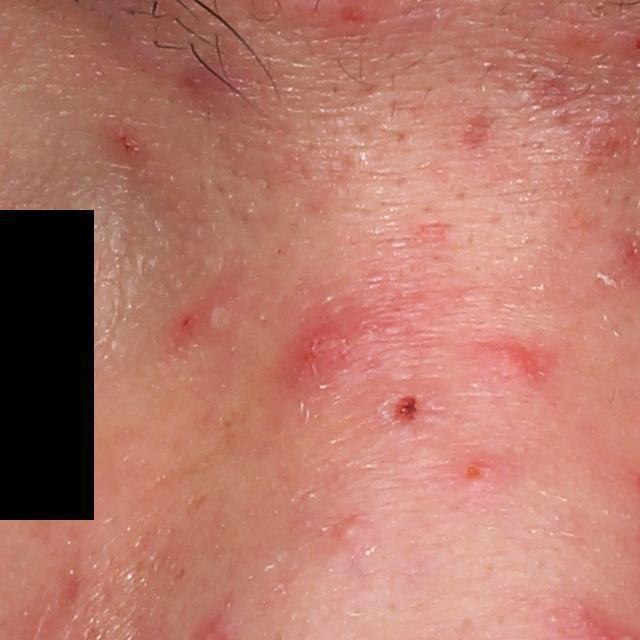comedo: (333, 515, 367, 550)
papule: (278, 319, 356, 388), (572, 116, 628, 168), (376, 388, 439, 431), (173, 297, 223, 345), (101, 120, 150, 165), (492, 340, 532, 379), (457, 456, 498, 488)
